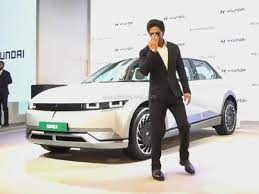Honda Ioniq: (15, 53, 141, 165)
